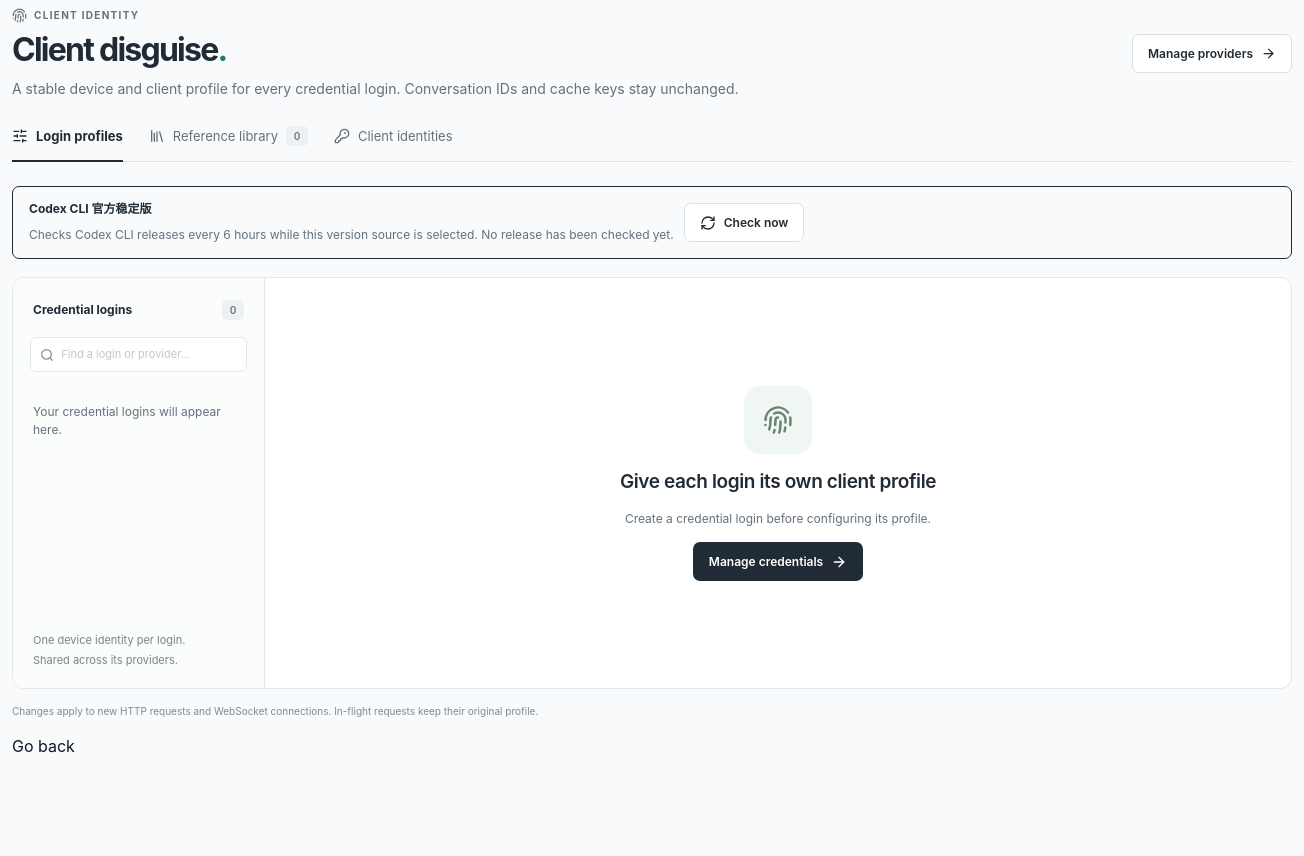
Test: client disguise workspace › reports malformed import errors and retains the sample for correction
Expected: the text "Create a credential login before configuring its profile." is shown, [625,510,931,528]
Click the button "Reference library 0": coordinates (228, 144) [149,126,308,161]
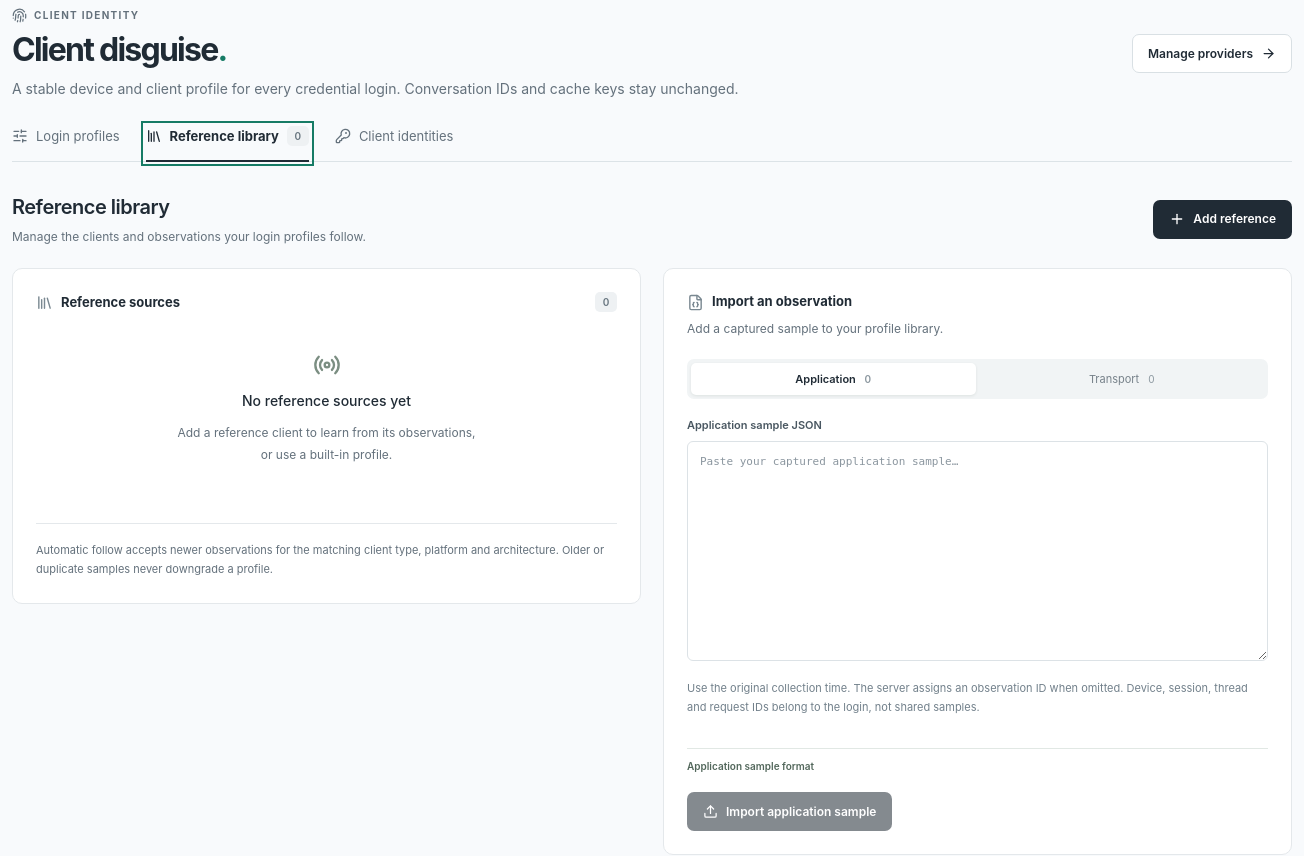
In the text box labelled "Application sample JSON": coordinates (978, 551) [687,441,1268,661], type "invalid"
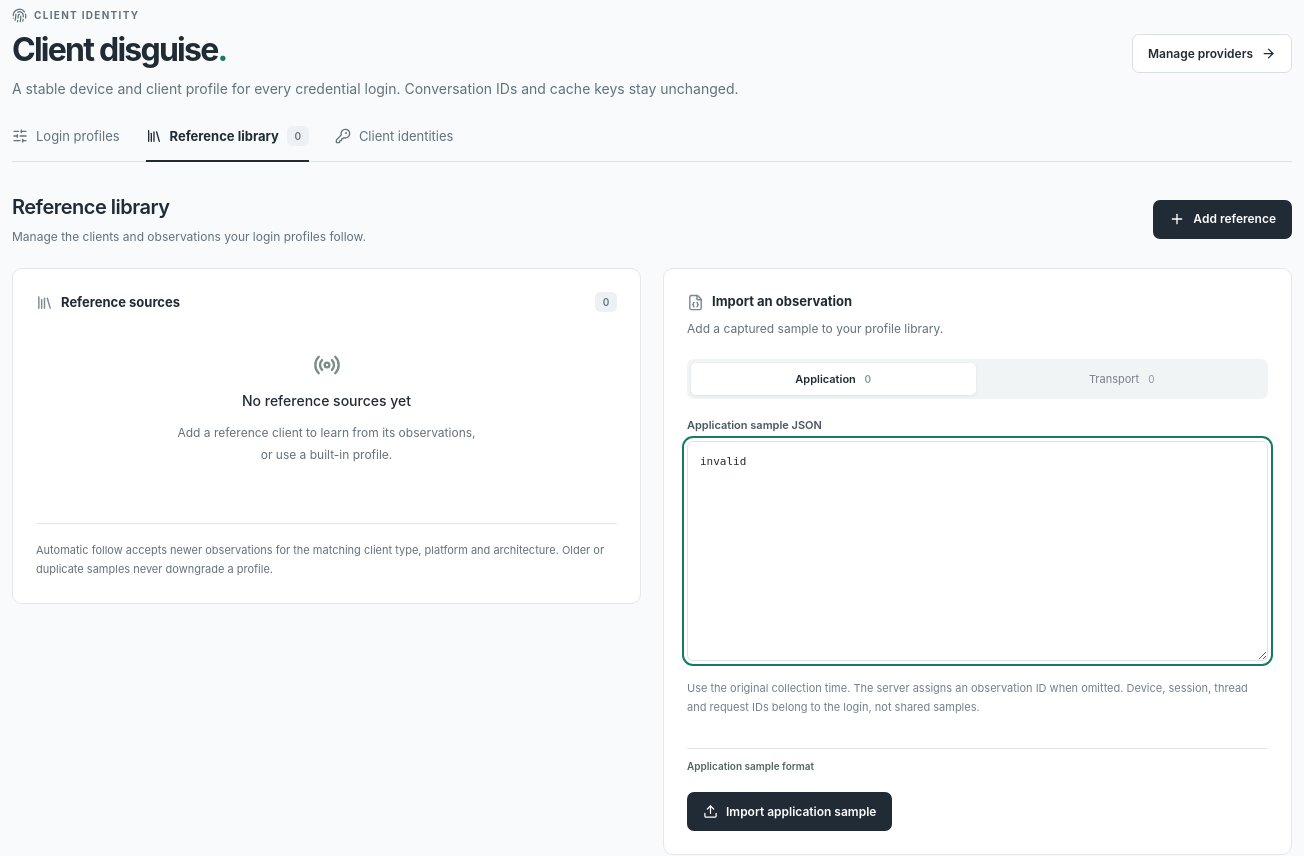
Click the button "Import application sample": coordinates (790, 812) [687,792,892,831]
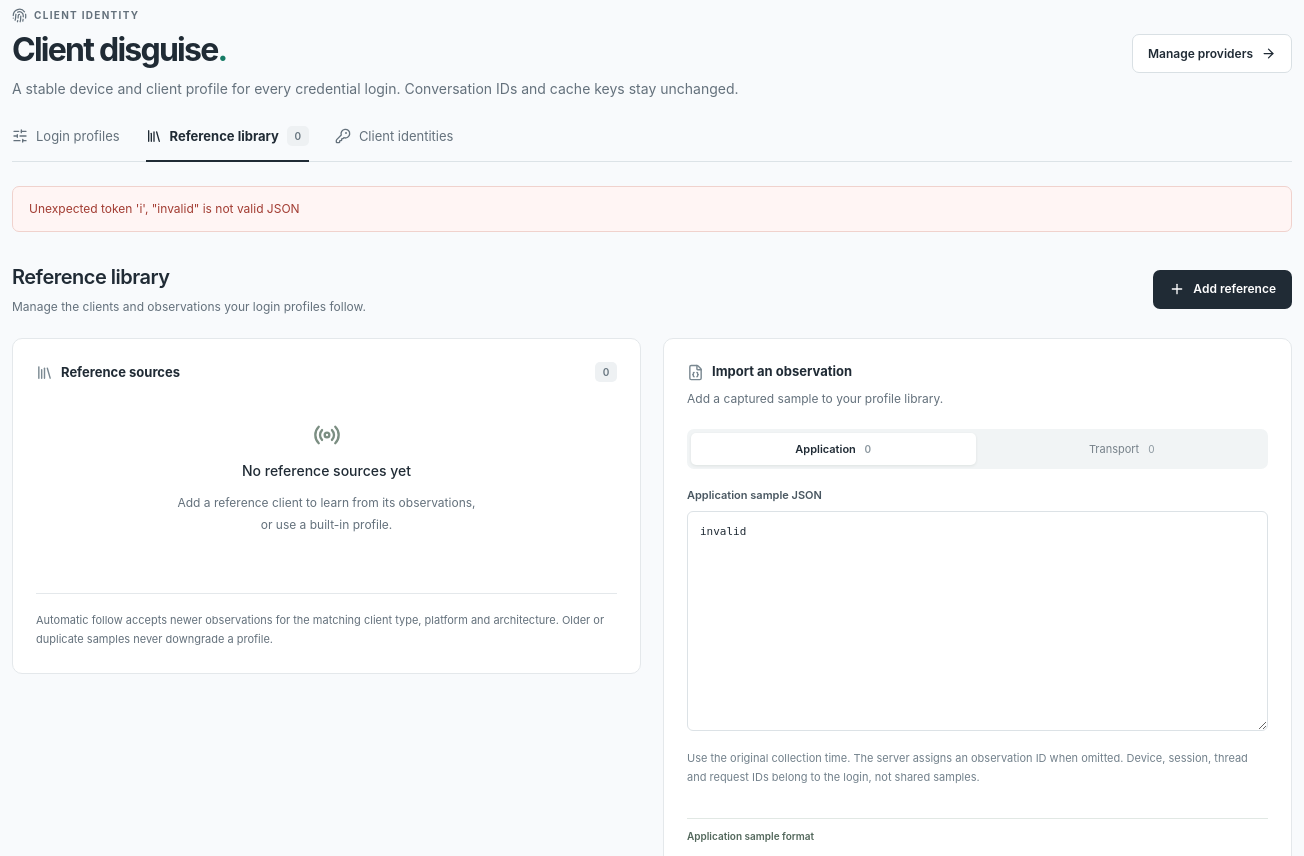
Expected: the message "Unexpected token 'i', \"invalid\" is not valid JSON" is shown, [12,186,1292,232]
